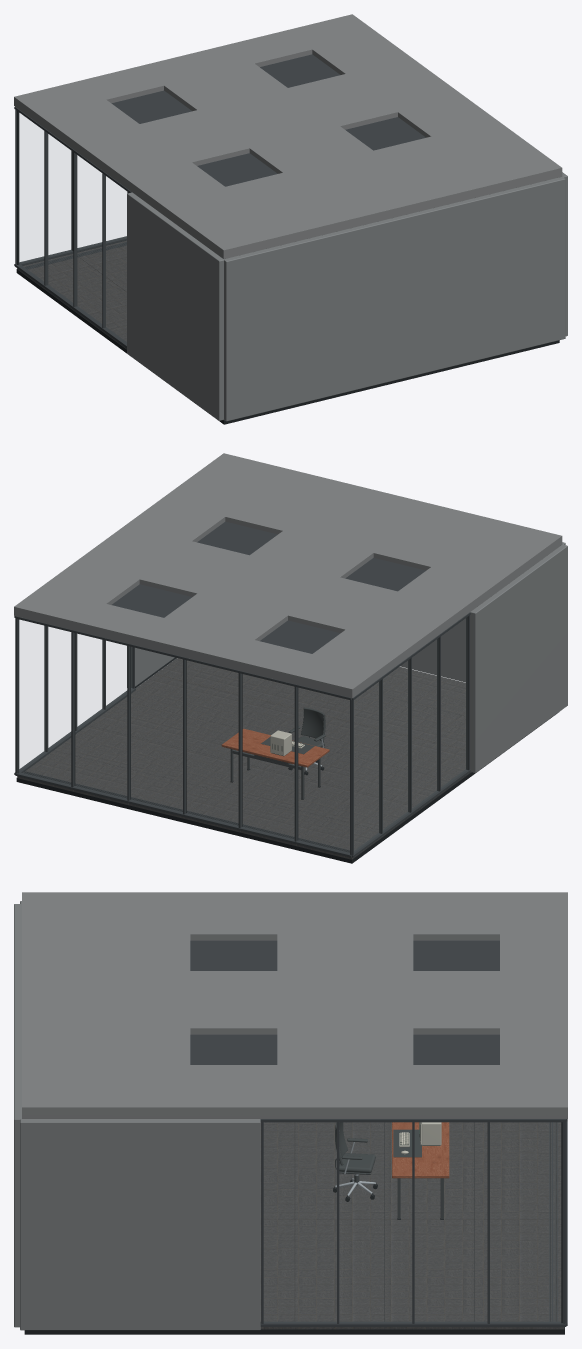
The model's file is penthouse-v2.glb.
The picture shows the model from 3 angles, top to bottom: view 1: azimuth 30°, elevation 25°; view 2: azimuth 150°, elevation 25°; view 3: azimuth 270°, elevation 25°; orthographic projection. The views are drawn at different scales.
Parts seen in each view (by area): view 1: WALL_Export_3, CEILING_Export_2, GLASS_Export_7, LED_HOUSING_Export_9, FLOOR_Export_0, FRAME_Export_5, FLOOR_Export_1, SEAL_Export_6; view 2: CEILING_Export_2, FLOOR_Export_0, WALL_Export_3, FRAME_Export_5, GLASS_Export_7, LED_HOUSING_Export_9, FLOOR_Export_1, DESK_Export_15, SEAL_Export_6, TRIM_Export_8, CHAIR_Export_27, DESK_Export_16; view 3: CEILING_Export_2, FLOOR_Export_0, WALL_Export_3, LED_HOUSING_Export_9, FRAME_Export_5, FLOOR_Export_1, DESK_Export_15, TRIM_Export_8, CHAIR_Export_27, DESK_Export_18.
Part boxes in pixels (box(x1,y1,x2,y2)): WALL_Export_3: box(127, 172, 567, 421); CEILING_Export_2: box(14, 14, 562, 259); GLASS_Export_7: box(20, 114, 127, 262); LED_HOUSING_Export_9: box(111, 54, 425, 186); FLOOR_Export_0: box(17, 240, 224, 420); FRAME_Export_5: box(14, 107, 131, 348); FLOOR_Export_1: box(16, 269, 559, 424); SEAL_Export_6: box(17, 111, 73, 264); CEILING_Export_2: box(14, 453, 562, 698); FLOOR_Export_0: box(17, 658, 470, 859); WALL_Export_3: box(127, 542, 567, 772); FRAME_Export_5: box(14, 612, 470, 857); GLASS_Export_7: box(20, 620, 132, 769); LED_HOUSING_Export_9: box(112, 521, 425, 653); FLOOR_Export_1: box(16, 712, 558, 863); DESK_Export_15: box(221, 728, 329, 767); SEAL_Export_6: box(74, 633, 298, 840); TRIM_Export_8: box(23, 771, 349, 852); CHAIR_Export_27: box(288, 707, 325, 747); DESK_Export_16: box(226, 747, 320, 798); CEILING_Export_2: box(22, 892, 567, 1118); FLOOR_Export_0: box(260, 1122, 564, 1329); WALL_Export_3: box(14, 901, 260, 1330); LED_HOUSING_Export_9: box(190, 940, 499, 1064); FRAME_Export_5: box(260, 1119, 567, 1326); FLOOR_Export_1: box(24, 1122, 564, 1334); DESK_Export_15: box(392, 1122, 449, 1178); TRIM_Export_8: box(549, 1122, 557, 1321); CHAIR_Export_27: box(335, 1122, 375, 1173); DESK_Export_18: box(393, 1129, 421, 1157).
Size of the model in its own units: 7.3 by 3.51 by 7.71.
18 materials, 2 textured.
